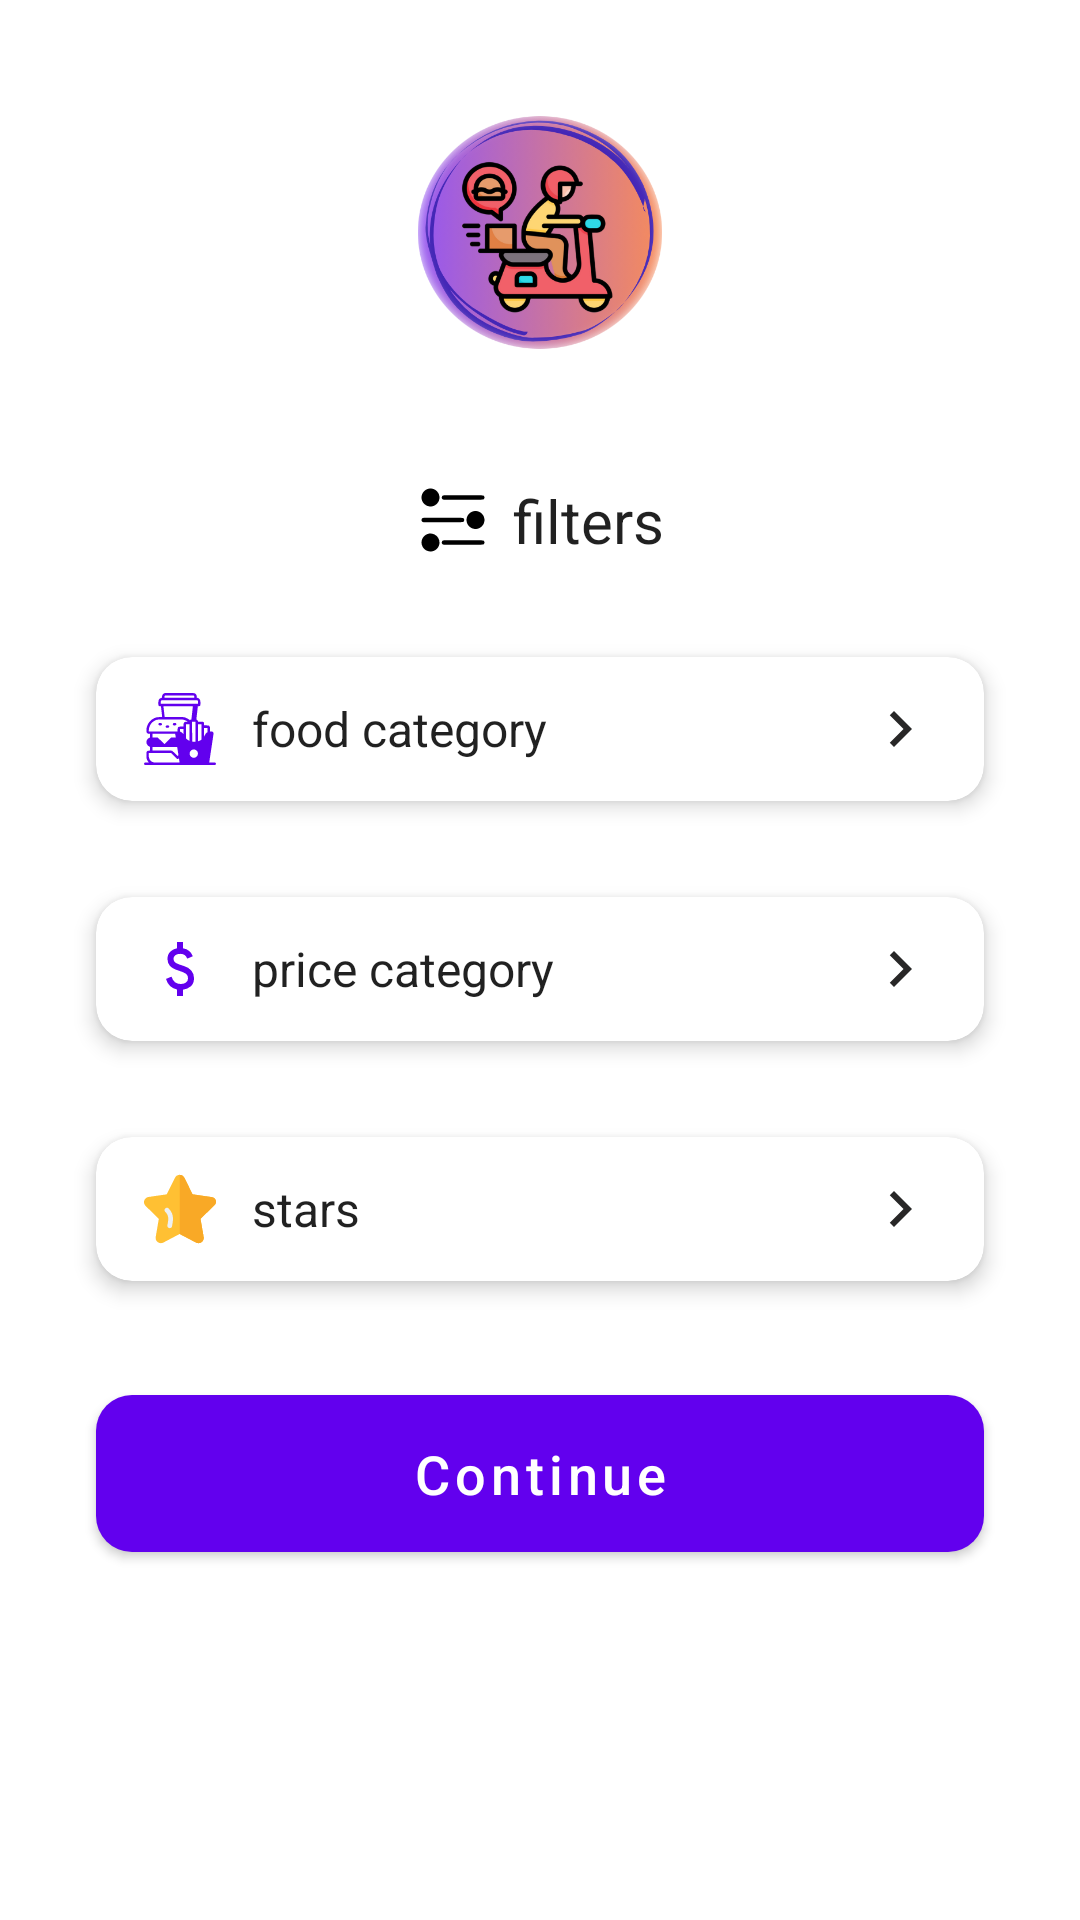

Icon bounding boxes for this 1080w x 1920h phone screenshot, format (x1, y1, x2, y2):
burger: (144, 693, 216, 765)
chevron right: (890, 711, 912, 747), (890, 951, 912, 987), (890, 1191, 912, 1227)
money: (166, 942, 194, 996)
